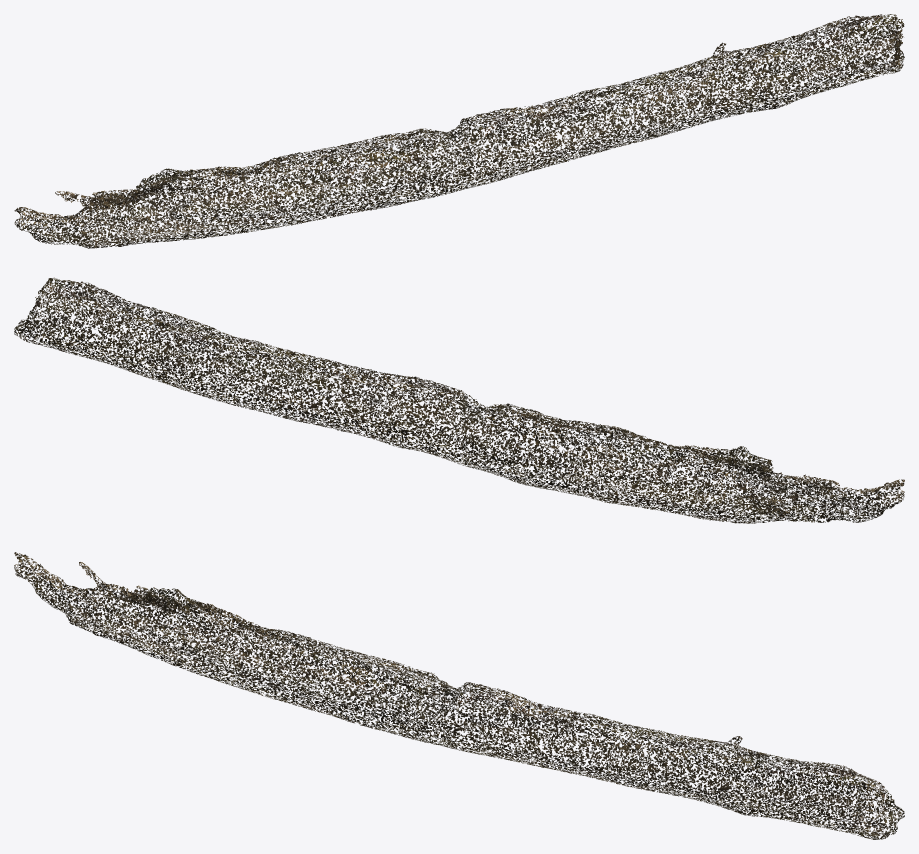
The model's file is dead_tree_trunk_mobile.glb.
The picture shows the model from 3 angles, top to bottom: view 1: azimuth 30°, elevation 25°; view 2: azimuth 150°, elevation 25°; view 3: azimuth 330°, elevation 25°; orthographic projection.
Visible parts, largest first — view 1: dead_tree_trunk; view 2: dead_tree_trunk; view 3: dead_tree_trunk.
Part boxes in pixels (x1,y1,x2,y2): dead_tree_trunk: [14, 14, 904, 248]; dead_tree_trunk: [14, 277, 904, 523]; dead_tree_trunk: [14, 552, 904, 839].
Bounding box in the file's own units: 3.05 × 0.288 × 0.2775.
Materials: 1 (1 with a texture image).
